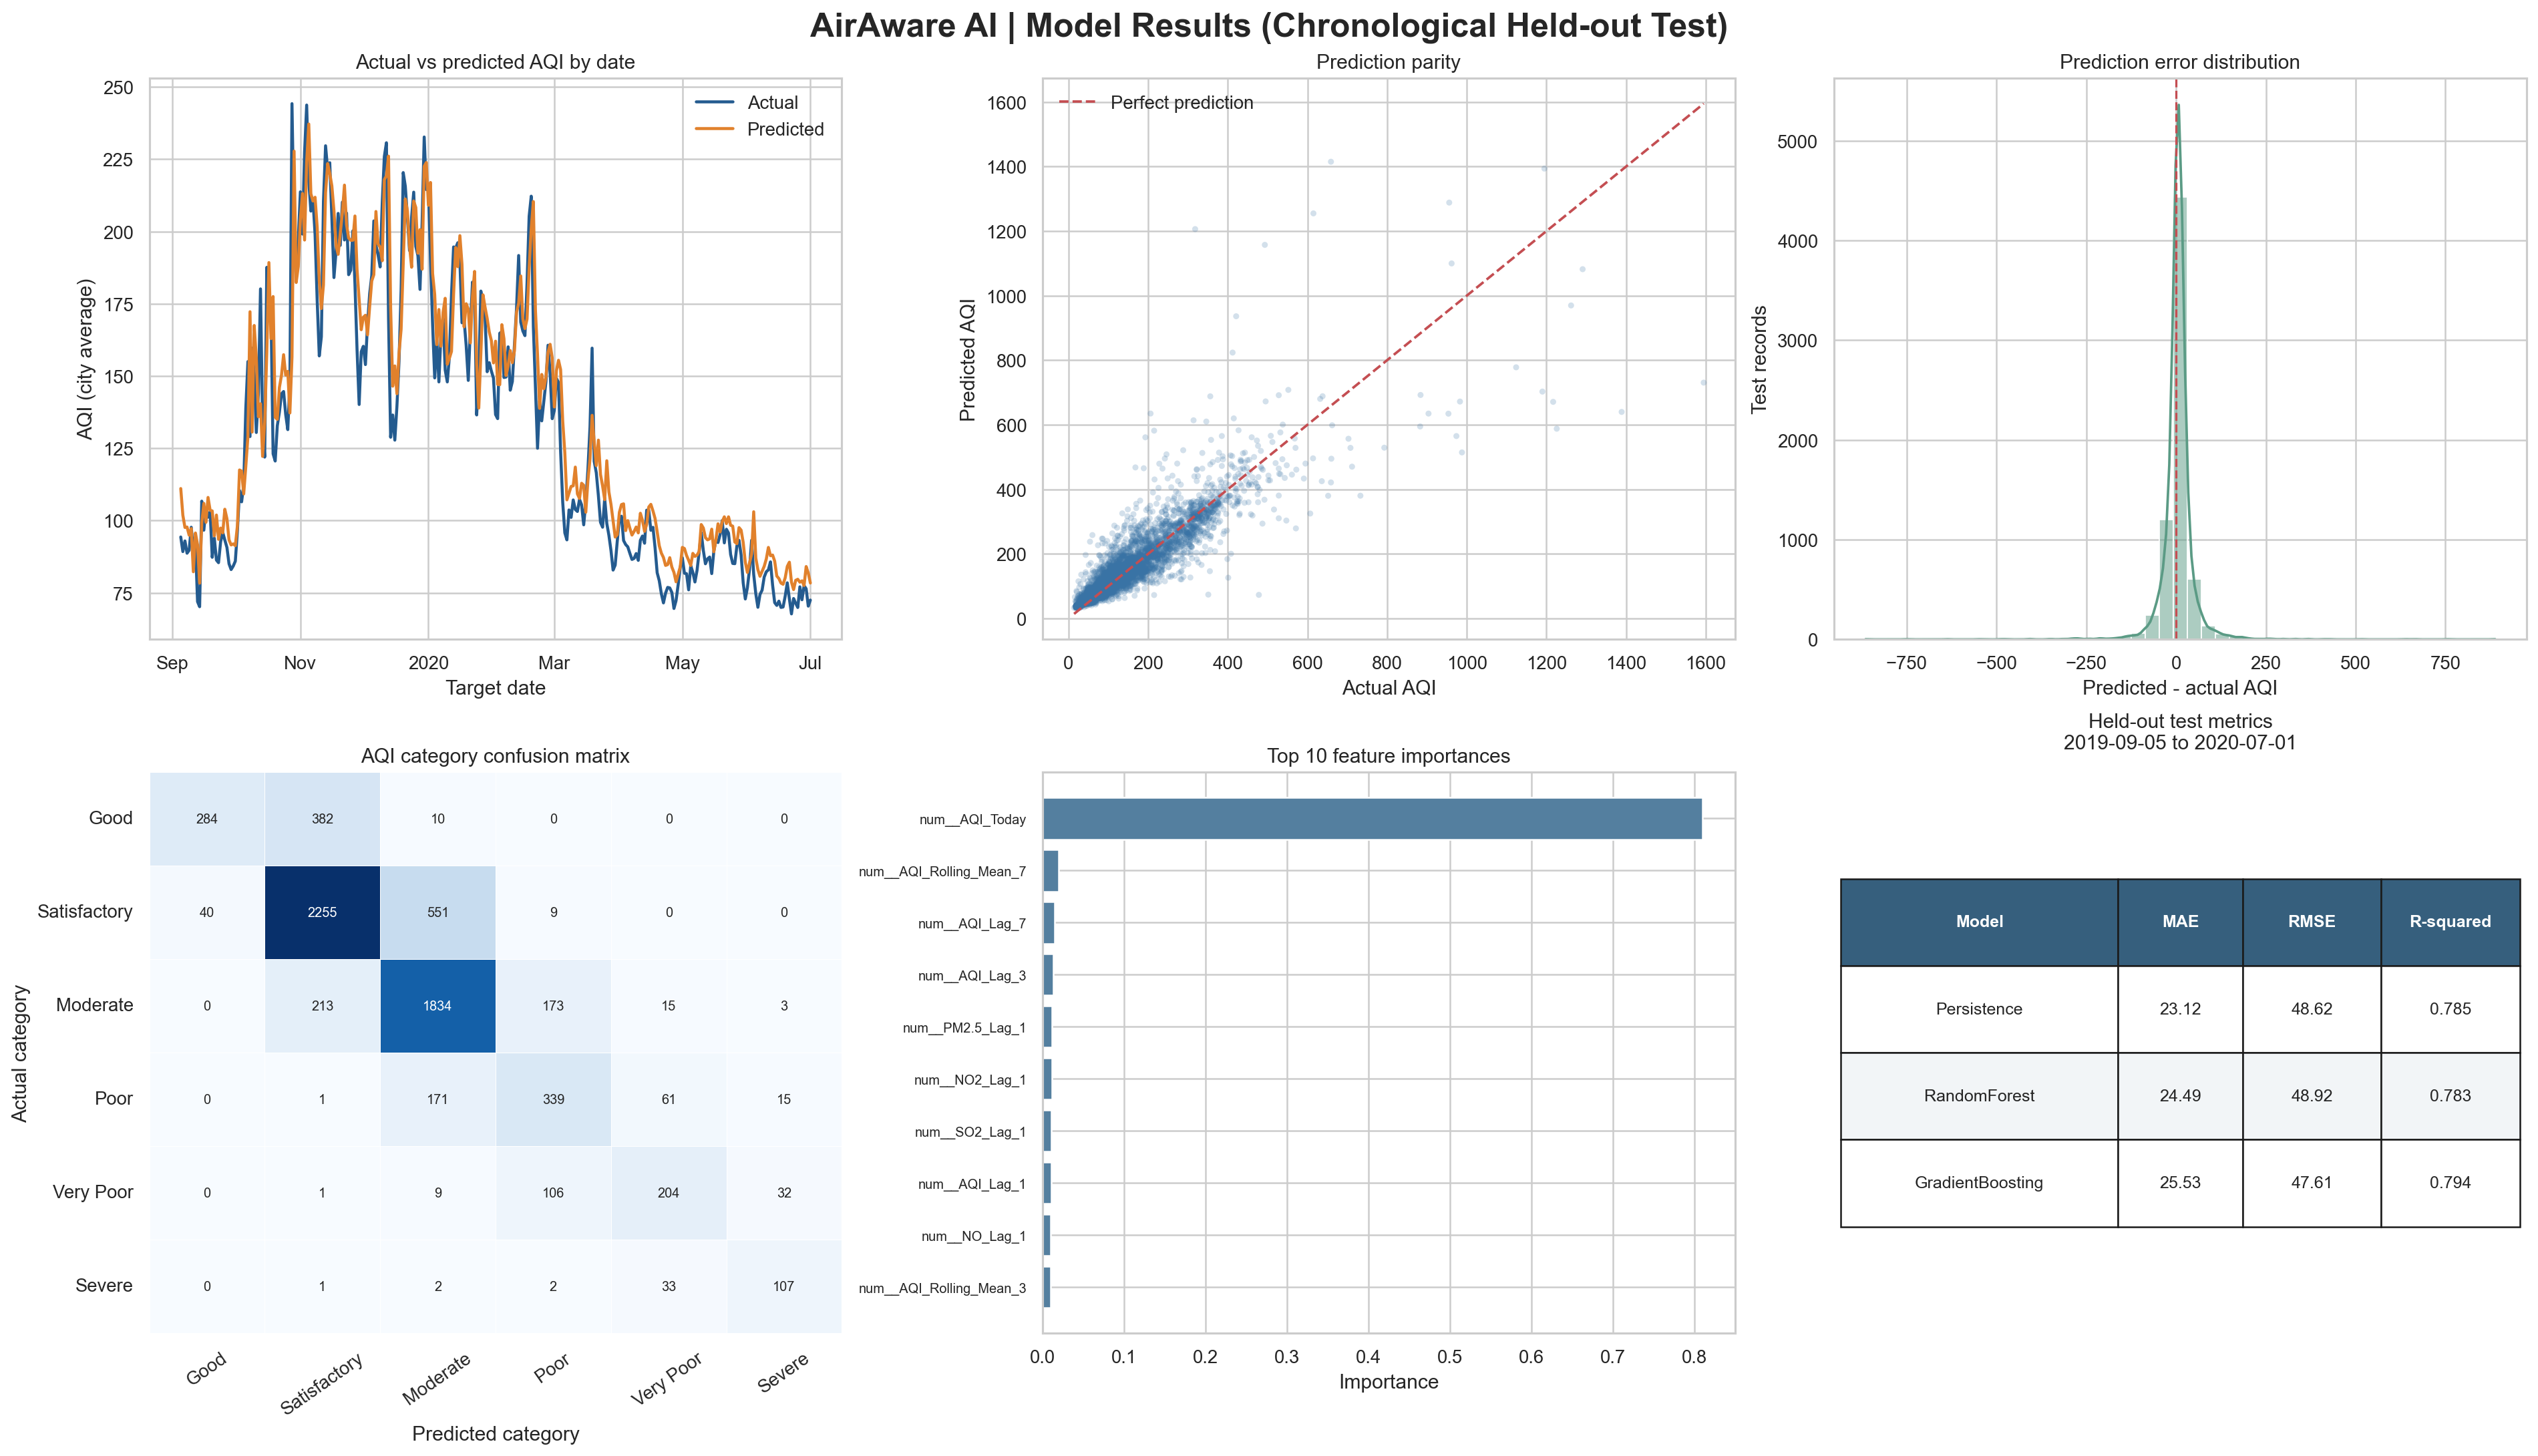

Layout of this report page (visuals, bound fields, positions):
{"tool":"tableau","page":{"name":"AQI Prediction & Risk","canvas":[1000,1000],"units":"permille","ordinal":0},"visuals":[{"type":"title","box":[4.8,8.8,990.3,58.2]},{"type":"worksheet","title":"Average Prediction Error by City","mark":"Automatic","rows":["City"],"cols":["Absolute_Error"],"box":[4.8,67,248.8,659]},{"type":"worksheet","title":"Predicted Risk Category","mark":"Automatic","rows":["Predicted_AQI_Tomorrow"],"cols":["Predicted_Category"],"box":[253.6,67,232.5,659]},{"type":"worksheet","title":"Actual vs Predicted AQI","mark":"Automatic","rows":["Actual_AQI_Tomorrow","Predicted_AQI_Tomorrow"],"cols":["Date"],"box":[486.1,67,399.2,659]},{"type":"legend","title":"Actual vs Predicted AQI","param":"[federated.085e6vs0yhdr4p167d5m00mrqjnm].[:Measure Names]","box":[885.3,67,109.8,79]},{"type":"filter","title":"Actual vs Predicted AQI","param":"[federated.085e6vs0yhdr4p167d5m00mrqjnm].[none:City:nk]","box":[885.3,146,109.8,67]},{"type":"worksheet","title":"Model Performance Metrics","mark":"Automatic","rows":["Model_Name","Evaluation_Period"],"box":[4.8,725.9,990.3,265.3]}]}

Visuals, with their boxes on the dashboard's canvas, which has no fixed pixel size, in thousandths of its width and height (x1, y1, x2, y2). These are canvas units, not pixel positions in the 2538x1456 screenshot, which may show the page scaled, cropped or inside an application window:
title: bbox=[5, 9, 995, 67]
"Average Prediction Error by City" worksheet: bbox=[5, 67, 254, 726]
"Predicted Risk Category" worksheet: bbox=[254, 67, 486, 726]
"Actual vs Predicted AQI" worksheet: bbox=[486, 67, 885, 726]
"Actual vs Predicted AQI" legend: bbox=[885, 67, 995, 146]
"Actual vs Predicted AQI" filter: bbox=[885, 146, 995, 213]
"Model Performance Metrics" worksheet: bbox=[5, 726, 995, 991]
